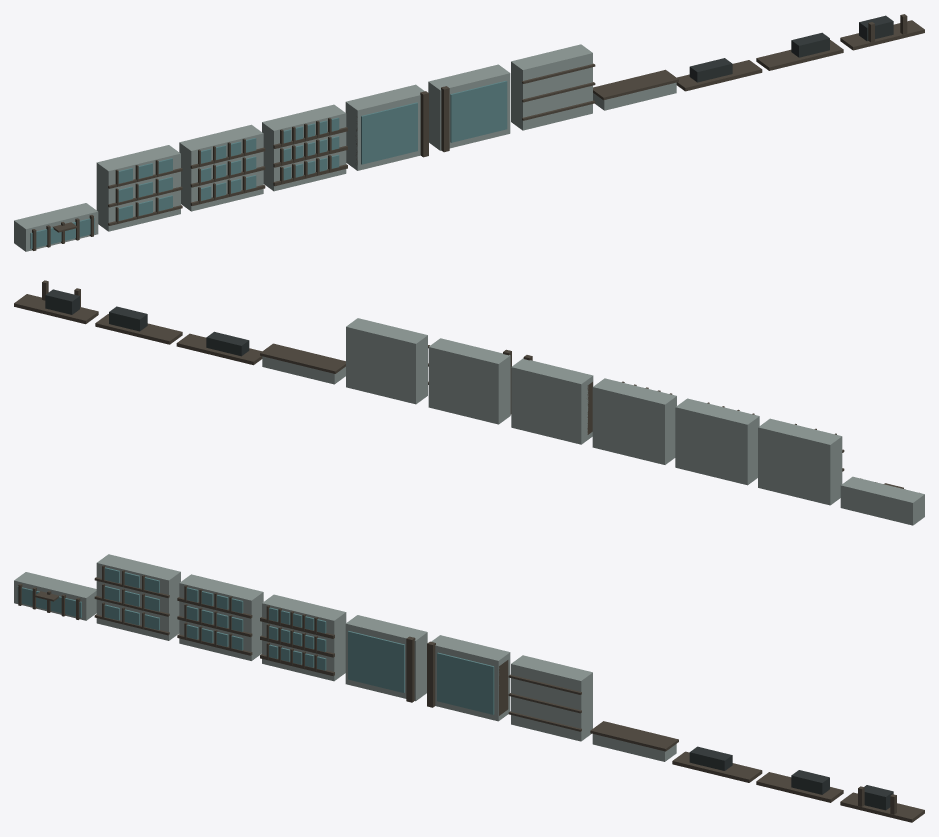
Rendered from riverfront-terrace.glb.
The picture shows the model from 3 angles, top to bottom: view 1: azimuth 30°, elevation 25°; view 2: azimuth 150°, elevation 25°; view 3: azimuth 330°, elevation 25°; orthographic projection.
Visible parts, largest first — view 1: middle-wall (×3), front-glass (×2), corner-wall (×2), party-wall, cornice (×3), roof-house (×3), base-shell, shoulder-cap, corner-pier (×2), shoulder, recessed-ground-floor; view 2: middle-wall (×3), corner-wall (×2), party-wall, base-shell, cornice (×3), roof-house (×3), shoulder-cap, shoulder; view 3: middle-wall (×3), front-glass (×2), party-wall, corner-wall (×2), cornice (×3), roof-house (×3), base-shell, shoulder-cap, corner-pier (×2), shoulder, recessed-ground-floor.
Boxes of the visible parts, x1,y1,x2,y2 form: middle-wall (×3): (96,104,346,231); front-glass (×2): (361,80,507,164); corner-wall (×2): (345,64,510,170); party-wall: (511,44,592,130); cornice (×3): (676,20,924,91); roof-house (×3): (689,15,893,82); base-shell: (14,203,98,251); shoulder-cap: (593,69,678,100); corner-pier (×2): (420,86,449,157); shoulder: (593,82,676,110); recessed-ground-floor: (30,218,94,248); middle-wall (×3): (592,378,842,505); corner-wall (×2): (428,338,593,444); party-wall: (346,318,427,404); base-shell: (840,476,924,525); cornice (×3): (14,294,262,365); roof-house (×3): (45,289,249,356); shoulder-cap: (260,343,345,373); shoulder: (262,356,345,384); middle-wall (×3): (96,554,346,681); front-glass (×2): (348,631,494,714); party-wall: (511,655,592,741); corner-wall (×2): (345,615,510,721); cornice (×3): (672,751,924,822); roof-house (×3): (689,746,893,810); base-shell: (14,572,96,620); shoulder-cap: (590,721,678,751); corner-pier (×2): (406,636,435,707); shoulder: (592,734,676,761); recessed-ground-floor: (17,586,81,617).
Bounding box in the file's own units: 43.49 × 2.9 × 1.53.
